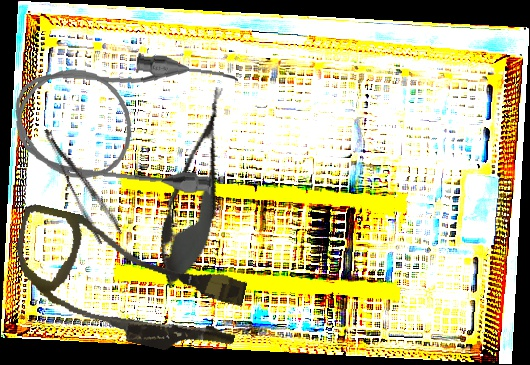Cannula: (1, 202, 254, 365), (8, 42, 240, 198)
Dressing Forceps: (41, 119, 124, 246)
Micro Scissor: (147, 81, 245, 295)
